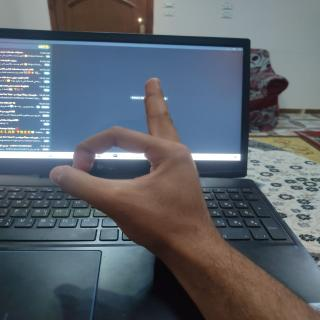Space: (35, 69, 228, 259)
